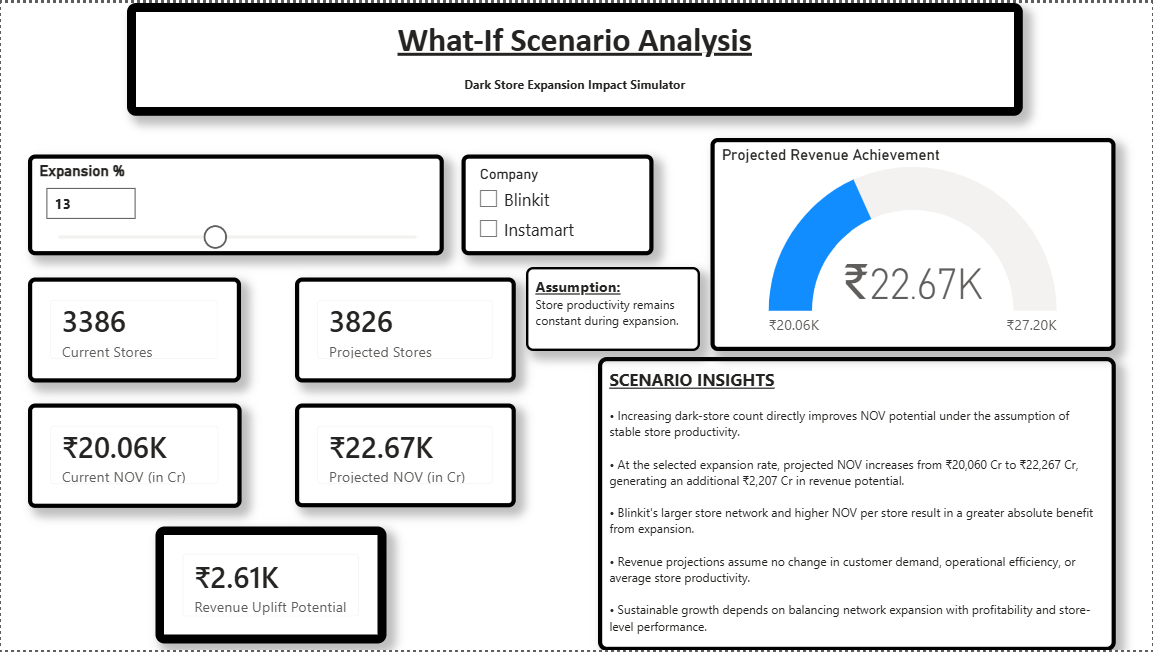

The page's visual inventory and layout, read from the dashboard file:
{"tool":"powerbi","page":{"name":"What-If Scenario Analysis","canvas":[1280,720],"ordinal":5},"visuals":[{"type":"textbox","box":[140,0,995,125],"z":0},{"type":"slicer","title":"Expansion %","fields":{"Values":["Expansion %.Expansion %"]},"box":[30,168.3,461.7,111.7],"z":1000},{"type":"cardVisual","fields":{"Data":["Fact_QuickCommerce.Latest Stores 2"]},"box":[30,305,236.7,116.7],"z":2000},{"type":"cardVisual","fields":{"Data":["Expansion %.Projected Stores"]},"box":[326.7,305,245,116.7],"z":3000},{"type":"cardVisual","fields":{"Data":["Fact_QuickCommerce.Latest NOV 2"]},"box":[30,444.3,237.1,115.7],"z":4000},{"type":"cardVisual","fields":{"Data":["Expansion %.Projected NOV"]},"box":[326.7,445,245,115],"z":5000},{"type":"cardVisual","fields":{"Data":["Expansion %.Additional NOV"]},"box":[171.7,581.7,256.7,130],"z":6000},{"type":"textbox","box":[663.3,393.3,575,326.7],"z":7000},{"type":"slicer","fields":{"Values":["Dim_Company.Company"]},"box":[511.7,168.3,213.3,111.7],"z":8000},{"type":"gauge","title":"Projected Revenue Achievement","fields":{"Y":["Expansion %.Projected NOV"],"MinValue":["Fact_QuickCommerce.Latest NOV 2"],"MaxValue":["Expansion %.Maximum"]},"box":[788.3,150,450,236.7],"z":9000},{"type":"textbox","box":[583.3,293.3,193.3,93.3],"z":10000}]}

Visuals, with their boxes in screenshot pixels (x1, y1, x2, y2), scaled from the page's 1280x720 canvas onto the 1153x652 screenshot:
textbox: (126, 0, 1022, 113)
"Expansion %" slicer: (27, 152, 443, 254)
cardVisual - Fact_QuickCommerce.Latest Stores 2: (27, 276, 240, 382)
cardVisual - Expansion %.Projected Stores: (294, 276, 515, 382)
cardVisual - Fact_QuickCommerce.Latest NOV 2: (27, 402, 241, 507)
cardVisual - Expansion %.Projected NOV: (294, 403, 515, 507)
cardVisual - Expansion %.Additional NOV: (155, 527, 386, 644)
textbox: (597, 356, 1115, 651)
slicer - Dim_Company.Company: (461, 152, 653, 254)
"Projected Revenue Achievement" gauge: (710, 136, 1115, 350)
textbox: (525, 266, 700, 350)
